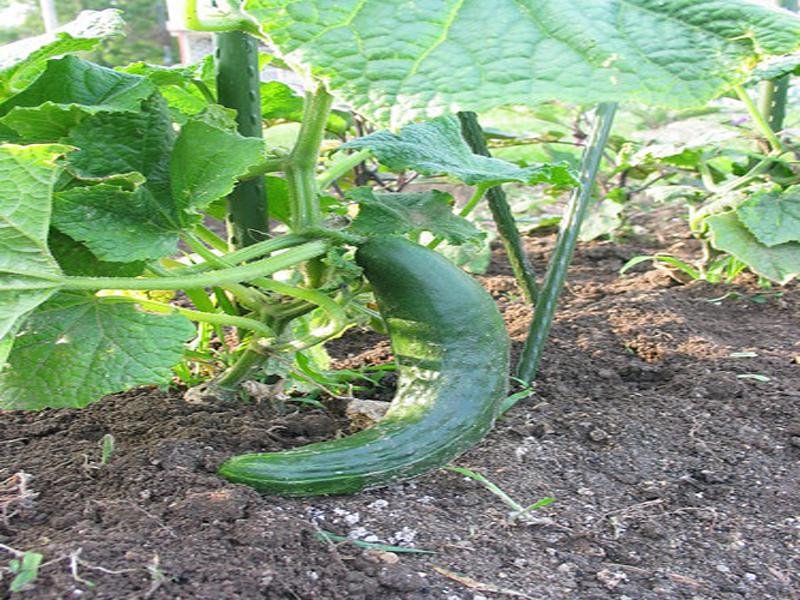Cucumber: (215, 234, 512, 497)
